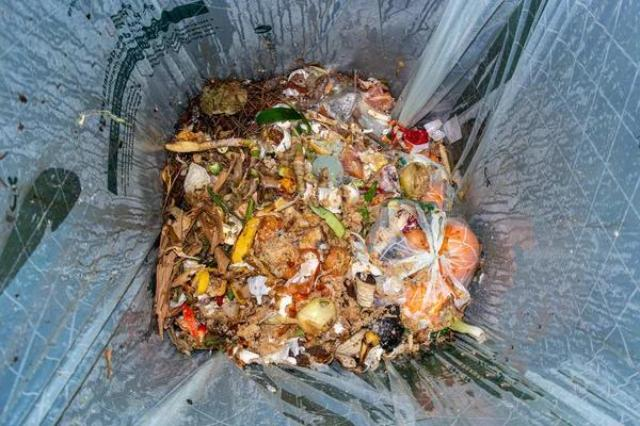Garbage: (154, 66, 485, 373)
